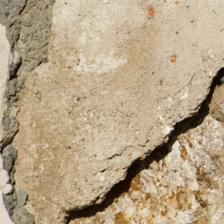Crack: (32, 33, 189, 191)
